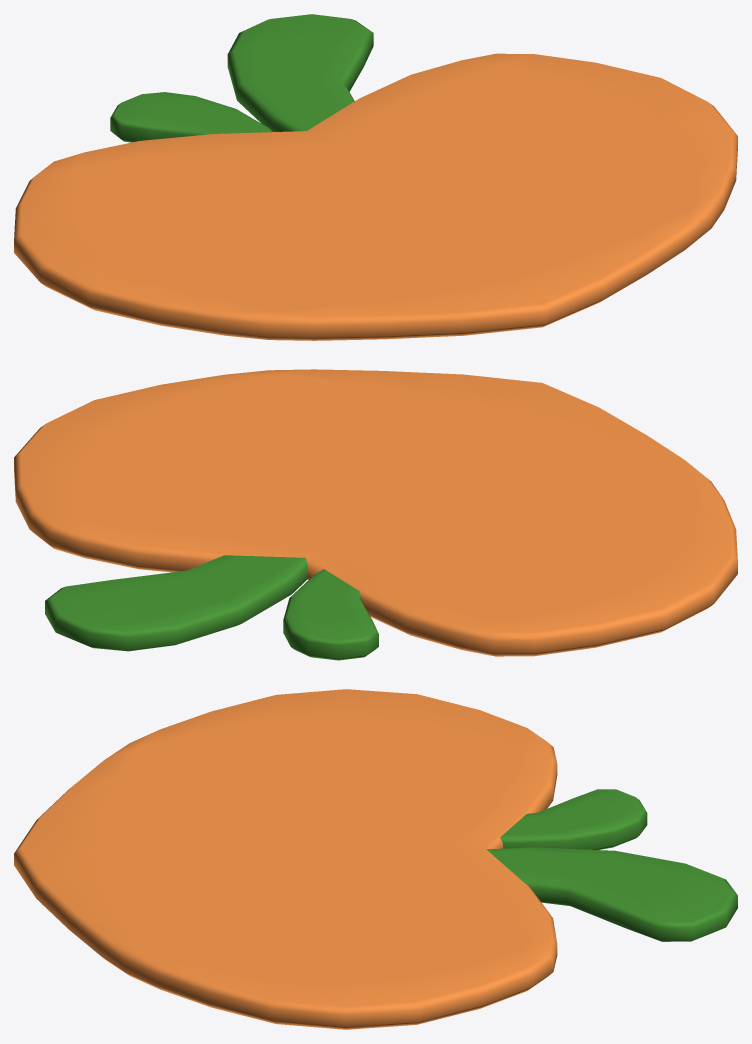
File: Carpet_14.glb
The picture shows the model from 3 angles, top to bottom: view 1: azimuth 30°, elevation 25°; view 2: azimuth 150°, elevation 25°; view 3: azimuth 270°, elevation 25°; orthographic projection.
Parts seen in each view (by area): view 1: Carpet_14; view 2: Carpet_14; view 3: Carpet_14.
Part boxes in pixels (x1=…): Carpet_14: x1=14, y1=14, x2=737, y2=340; Carpet_14: x1=14, y1=369, x2=737, y2=660; Carpet_14: x1=14, y1=689, x2=737, y2=1029.
Size of the model in its own units: 1.53 by 0.0514 by 1.45.
Materials: 1 (1 with a texture image).
